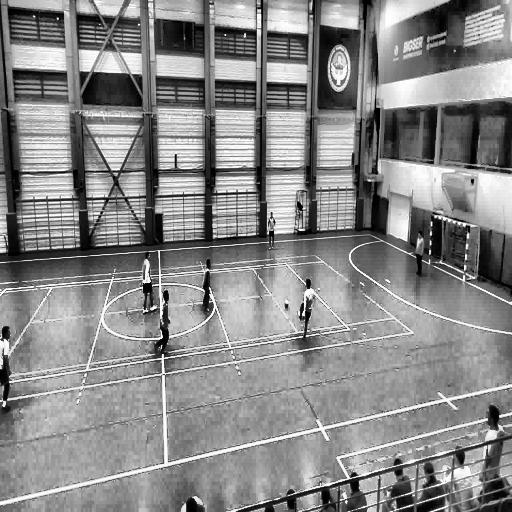ball: (284, 300, 290, 309)
player: (0, 324, 13, 411), (154, 290, 170, 354), (140, 251, 156, 313), (298, 278, 313, 342), (201, 258, 213, 313), (414, 229, 424, 276), (266, 211, 277, 251)
